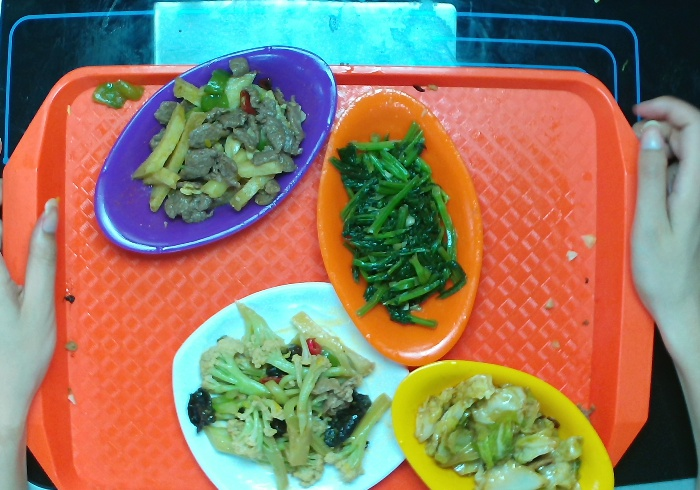RJxy-Fen_Hong_Tuo_Yuan: (86, 39, 340, 264)
RJxy-Huang_Se_Tuo_Yuan: (385, 354, 624, 488)
RJxy-Ju_Huang_Tuo_Yuan: (311, 85, 489, 370)
RJxy-Si_Fang_Die: (164, 281, 423, 490)
